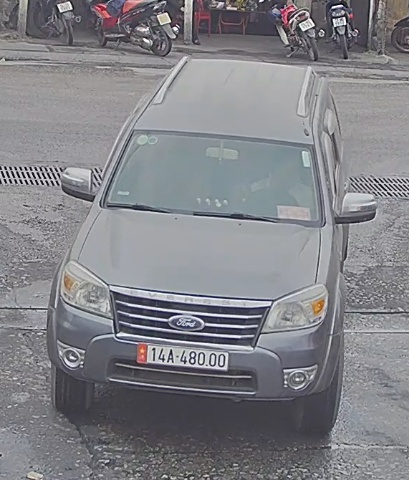vehicle plate: (134, 340, 234, 375)
